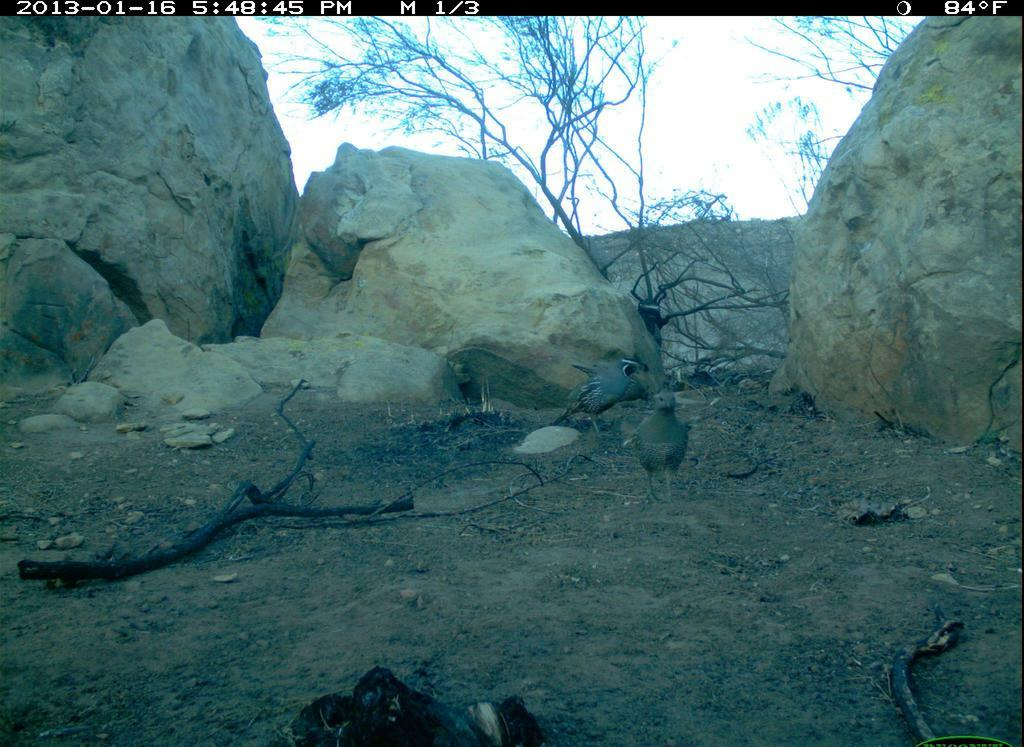bird: (555, 341, 643, 429), (639, 387, 701, 502)
